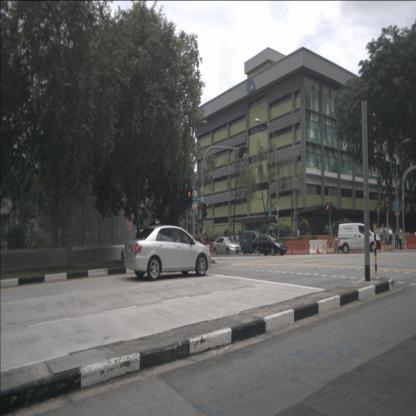human-pedestrian-adult: (187, 225, 193, 260), (200, 228, 204, 262), (398, 224, 403, 249), (376, 226, 381, 245), (384, 225, 388, 247), (388, 226, 392, 248), (380, 224, 384, 246), (395, 226, 398, 249), (297, 227, 300, 248), (289, 227, 292, 248), (236, 234, 240, 248), (231, 233, 234, 250), (235, 234, 238, 249)
movable_object-barrier: (308, 239, 328, 255), (292, 239, 310, 255), (393, 232, 411, 246), (278, 240, 293, 256), (317, 235, 334, 248), (405, 234, 416, 250)
movable_object-trafficcone: (315, 242, 320, 255), (403, 238, 408, 250), (315, 243, 320, 255), (380, 240, 384, 252), (334, 244, 338, 254)
vehicle-car: (124, 225, 211, 281), (337, 223, 381, 254), (252, 234, 287, 255), (239, 231, 264, 254), (212, 237, 241, 255)
